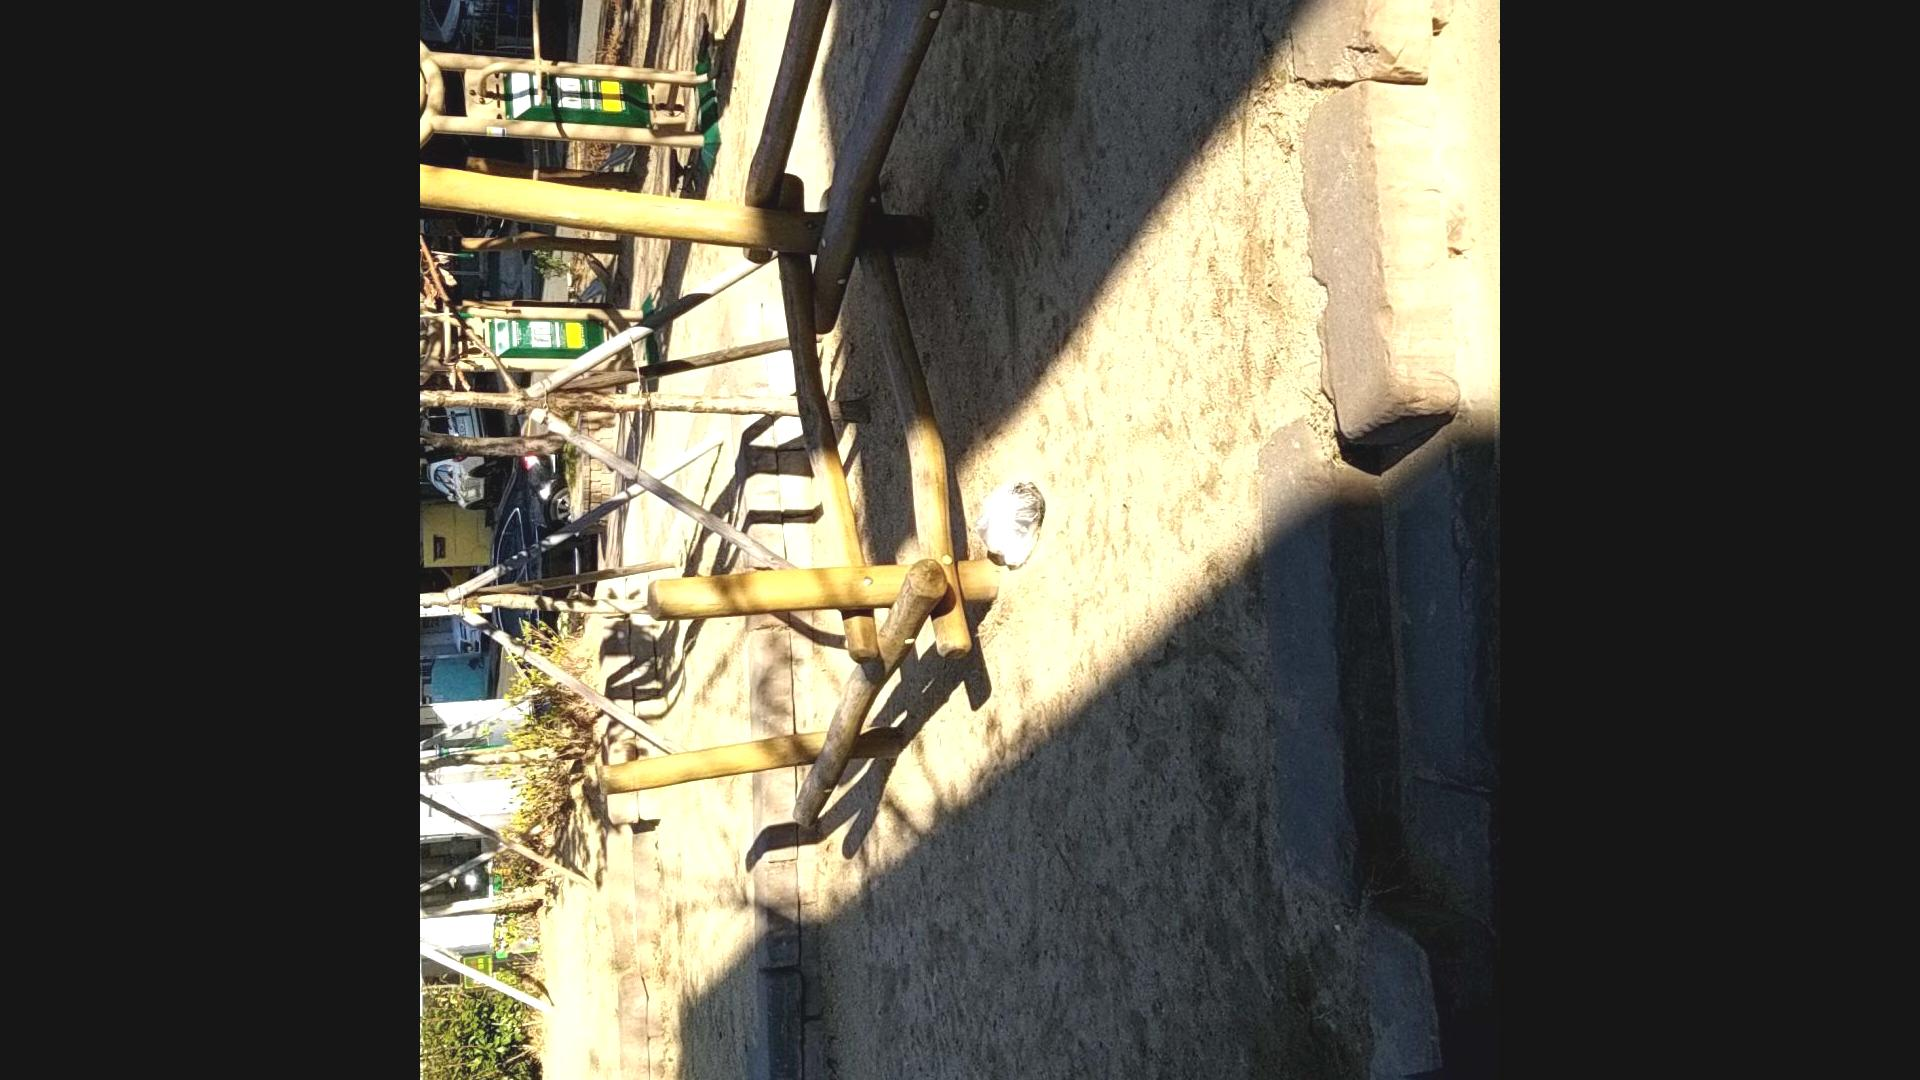white_bag: (968, 475, 1044, 572)
